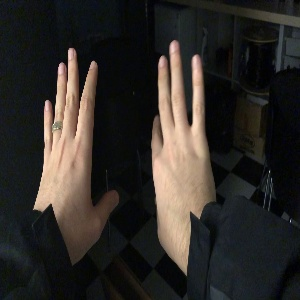hand: (39, 48, 119, 235), (151, 40, 216, 239)
